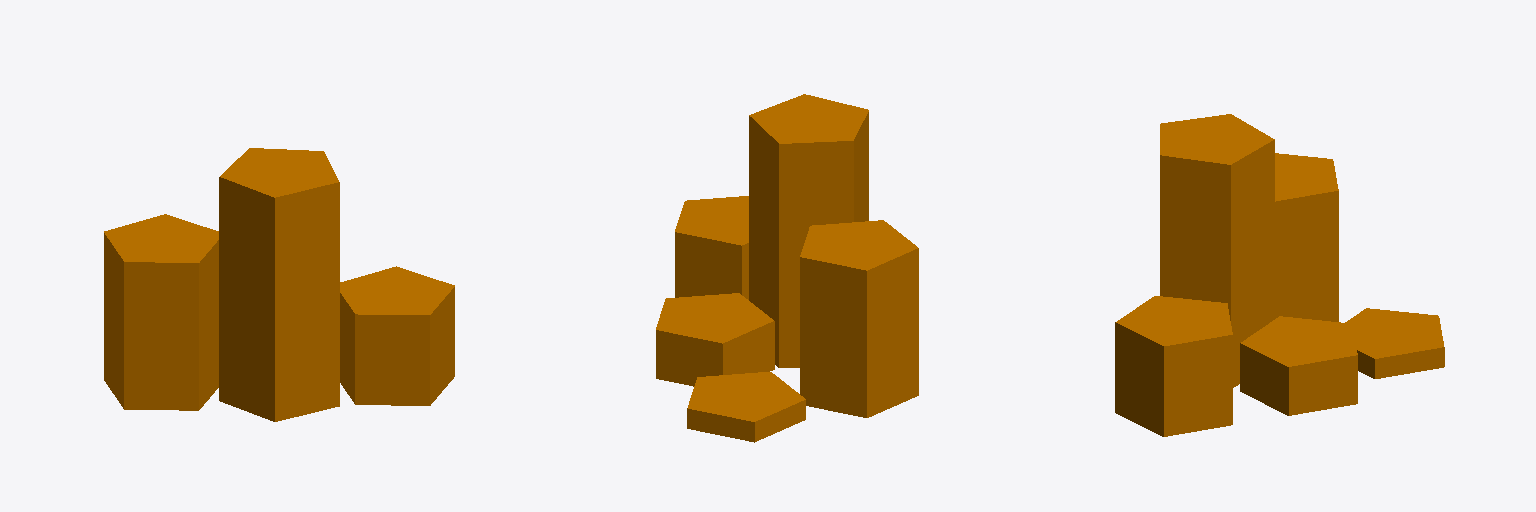
The model's file is smallGold.obj.
3 views of the same model, side by side, from view 1: azimuth 30°, elevation 25°; view 2: azimuth 150°, elevation 25°; view 3: azimuth 270°, elevation 25° (orthographic).
Parts seen in each view (by area): view 1: Circle, Circle.003, Circle.001; view 2: Circle.003, Circle, Circle.002, Circle.001, Circle.004; view 3: Circle, Circle.001, Circle.003, Circle.002, Circle.004.
Boxes of the visible parts, box(x1,y1,x2,y2) form: Circle: box(219, 148, 339, 421); Circle.003: box(104, 214, 218, 410); Circle.001: box(340, 266, 454, 405); Circle.003: box(800, 220, 918, 417); Circle: box(749, 94, 868, 367); Circle.002: box(656, 293, 774, 386); Circle.001: box(675, 196, 748, 299); Circle.004: box(687, 372, 805, 442); Circle: box(1160, 114, 1274, 387); Circle.001: box(1115, 296, 1232, 436); Circle.003: box(1275, 153, 1338, 321); Circle.002: box(1240, 316, 1357, 415); Circle.004: box(1345, 308, 1444, 378).
Size of the model in its own units: 0.4485 by 0.3404 by 0.4522.